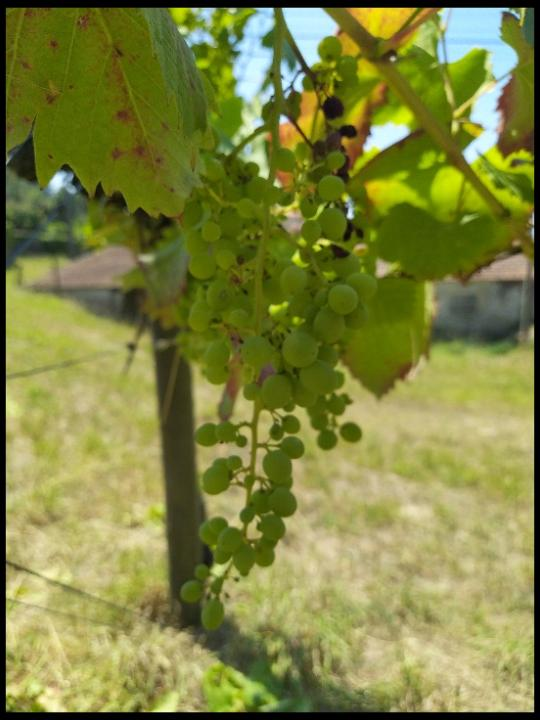grape: (176, 140, 381, 638)
